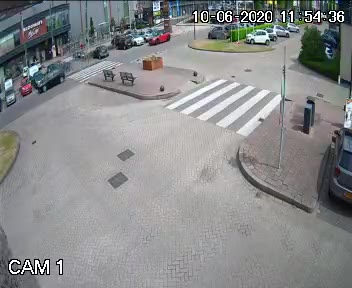car: (36, 69, 66, 90), (140, 32, 174, 47)
